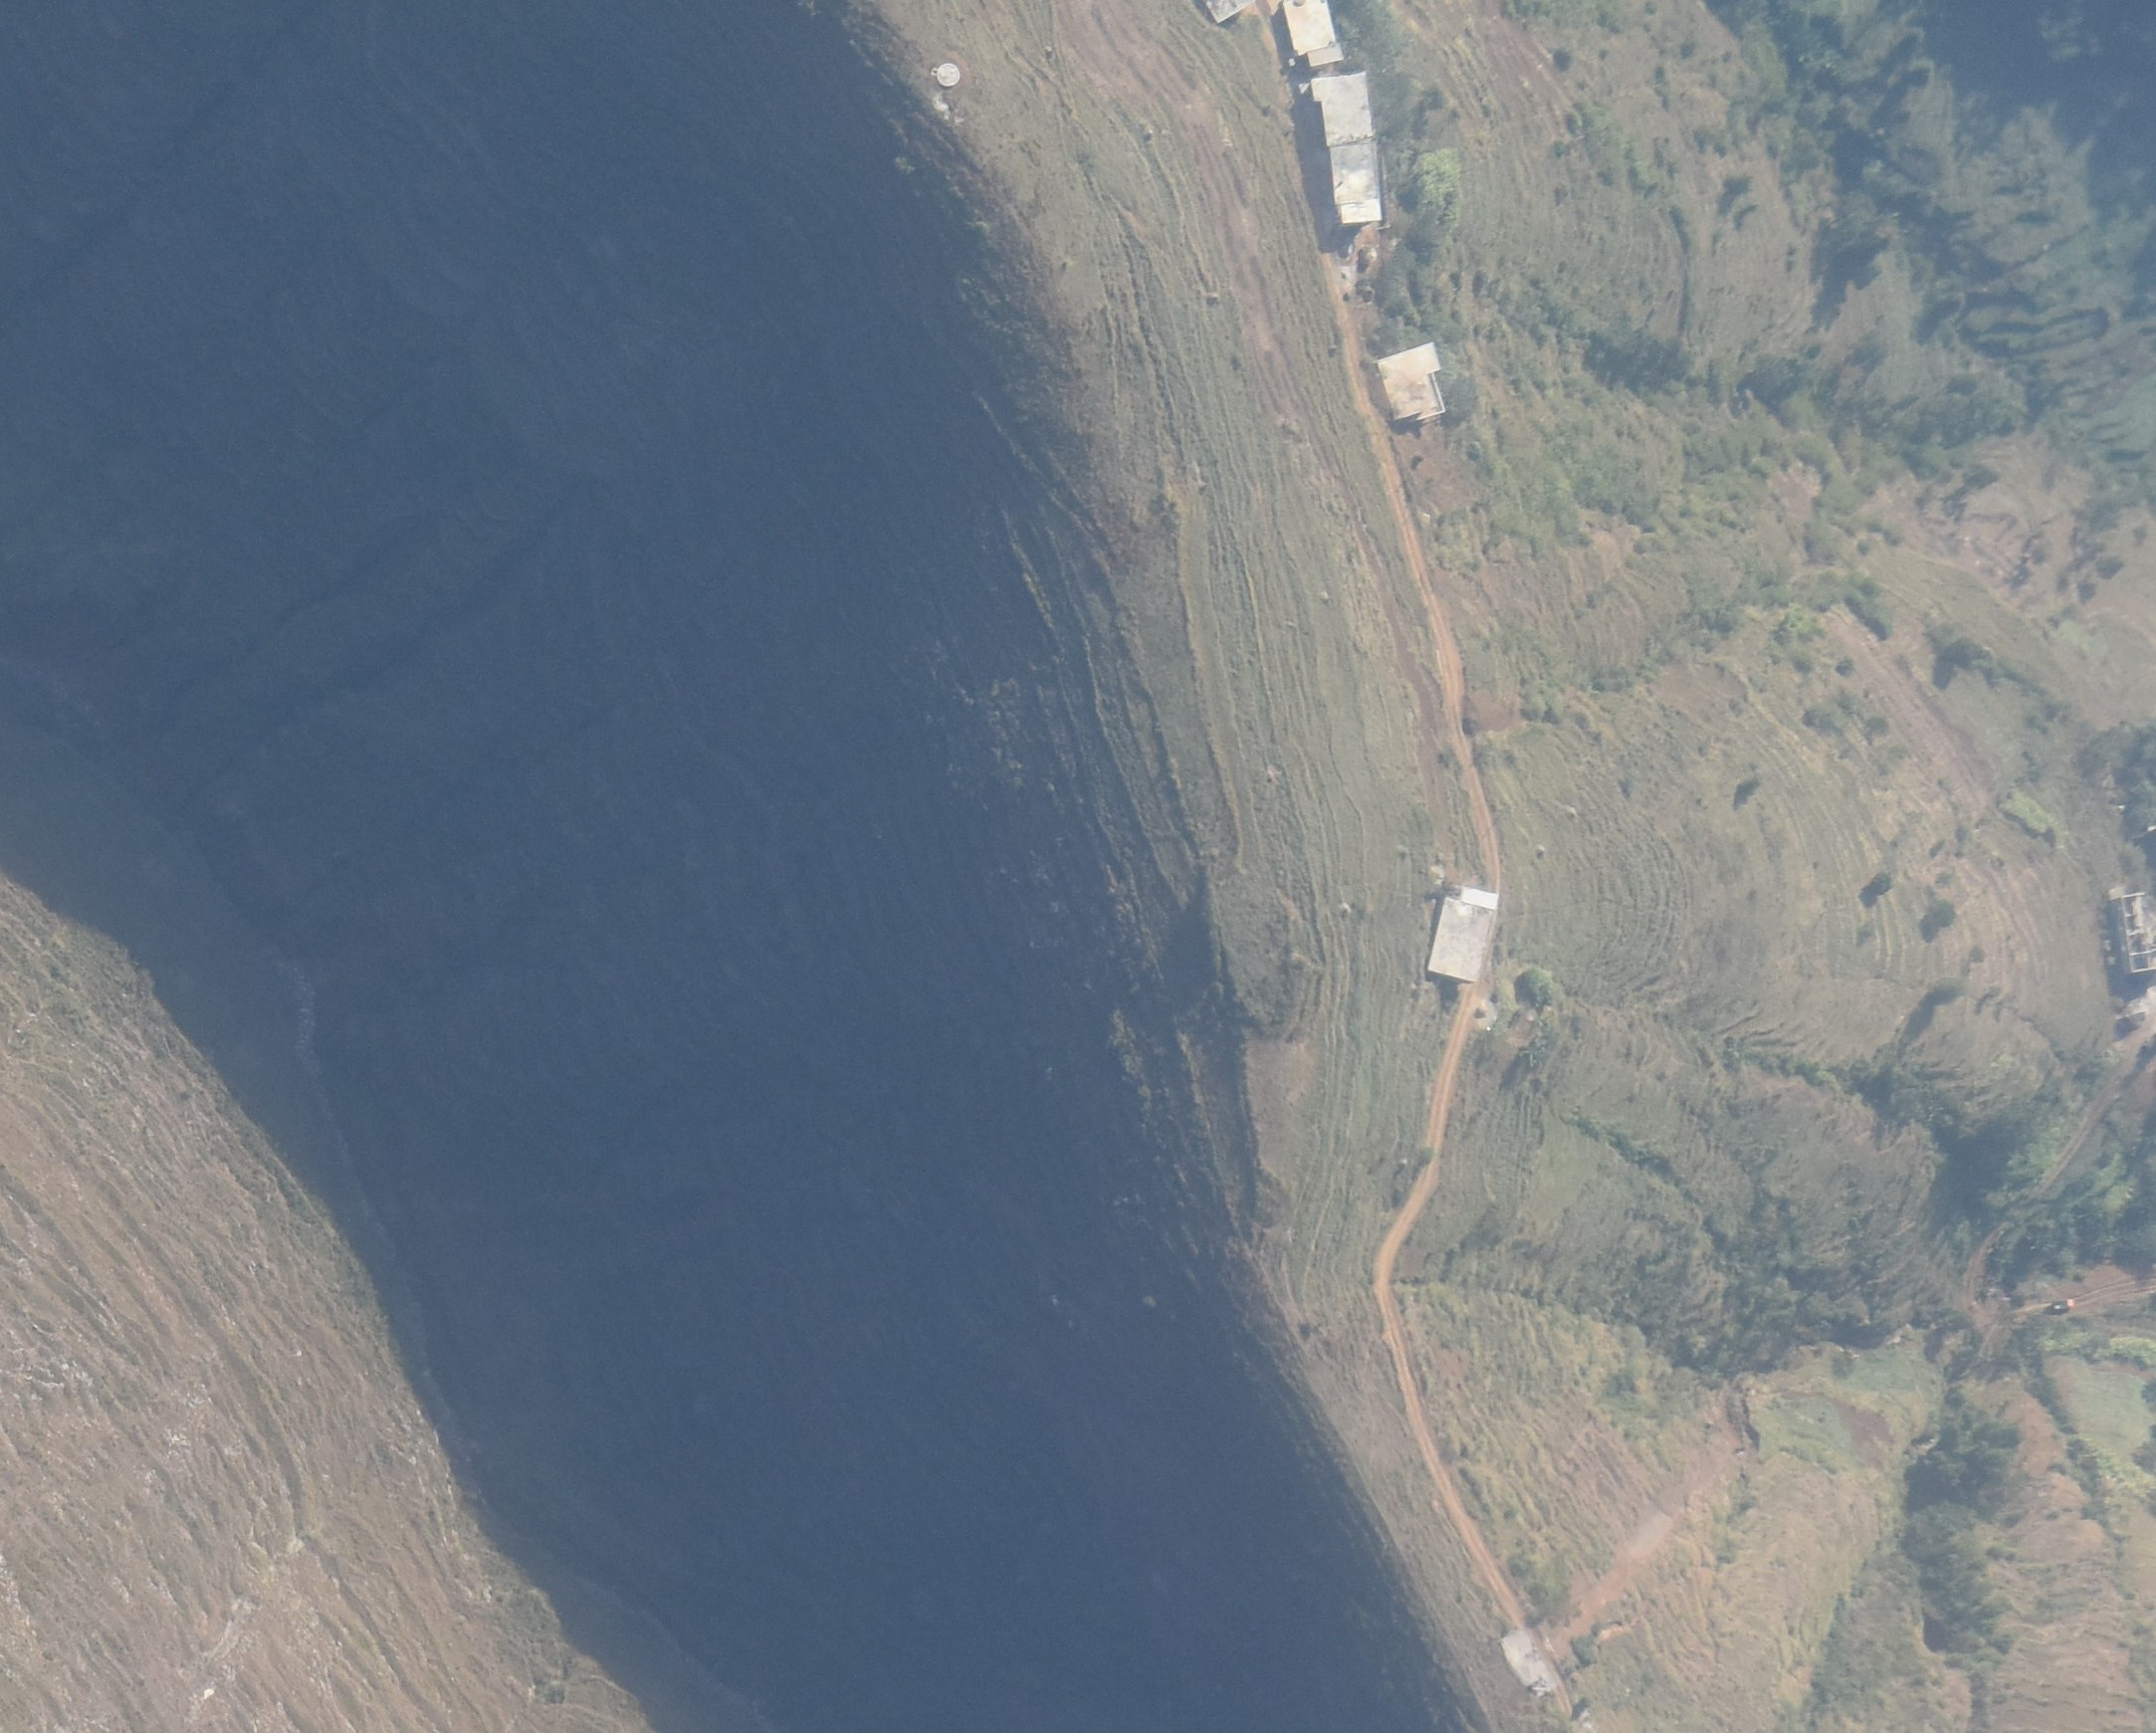building: (1311, 71, 1383, 225), (1424, 888, 1502, 983), (1376, 341, 1447, 423), (1498, 1625, 1556, 1699), (2110, 891, 2154, 974)
vehicle: (2053, 1300, 2075, 1310)
well: (934, 62, 962, 88)
